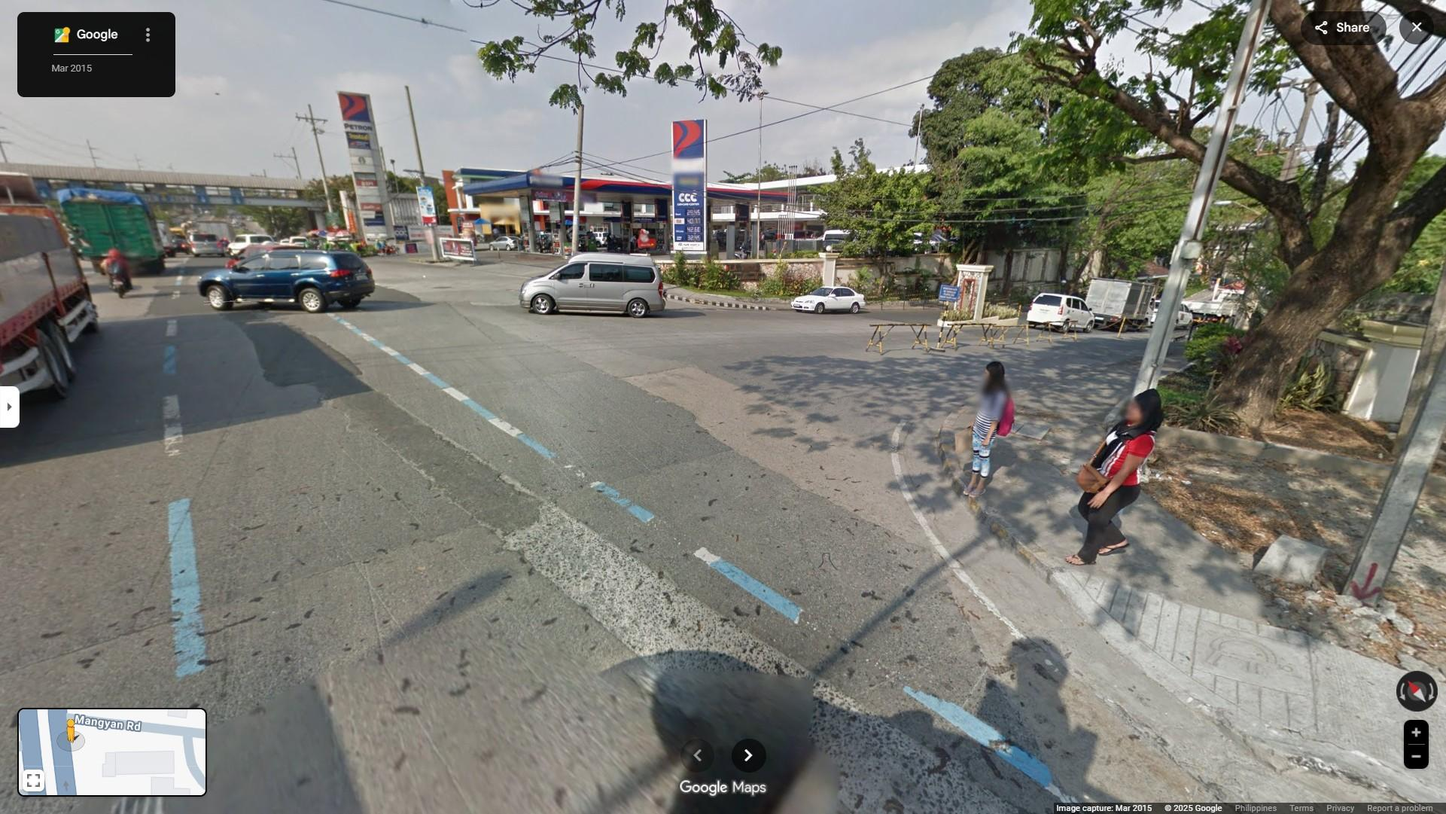pedestrian: (1064, 388, 1164, 565), (958, 360, 1016, 499), (629, 234, 638, 253), (606, 231, 613, 252)
